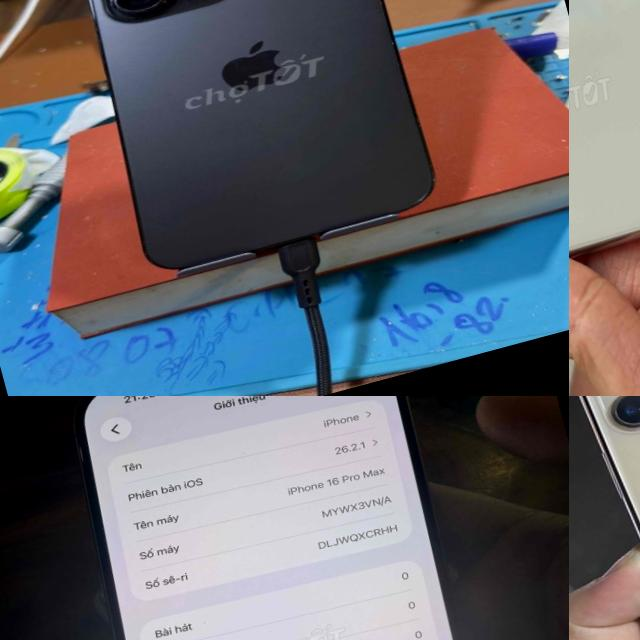gen_11: (569, 396, 640, 640)
gen_14: (47, 0, 459, 285)
gen_16: (75, 396, 459, 640)
gen_x_xs: (569, 0, 640, 345)
